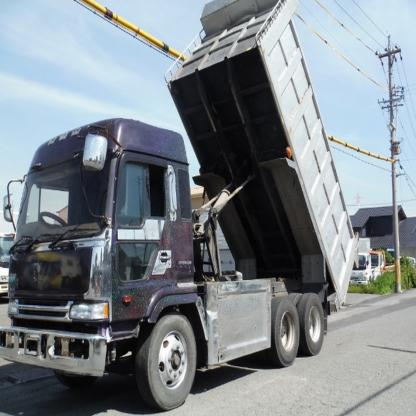dump_truck: (2, 2, 362, 410)
